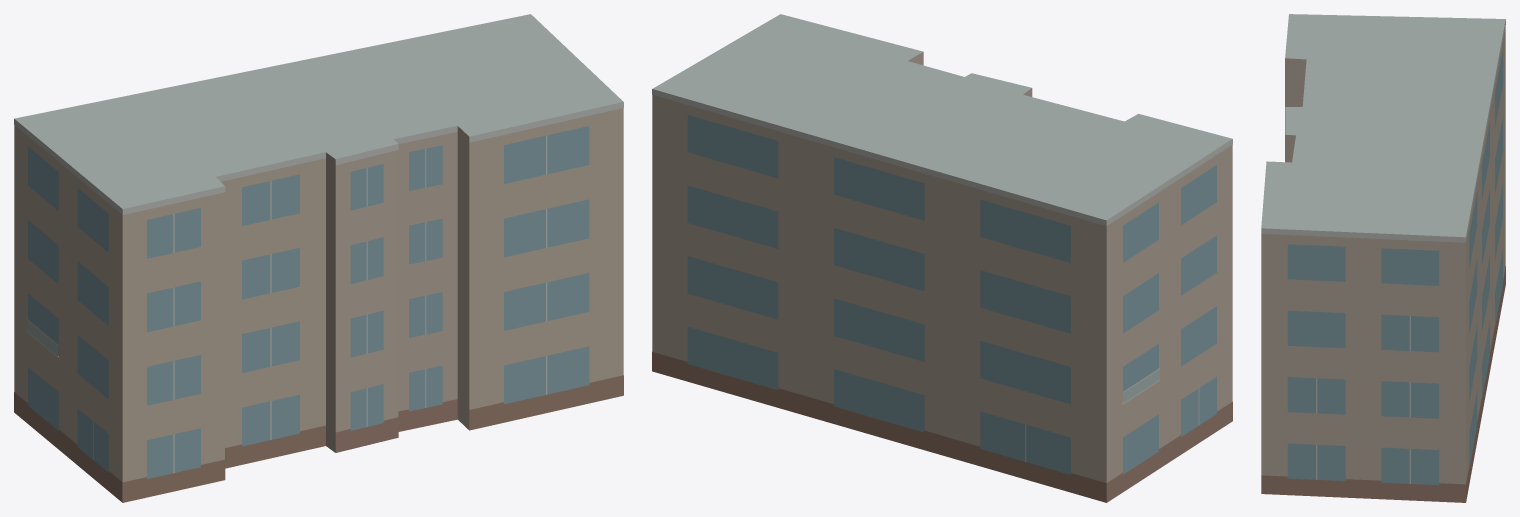
Rendered from survey-upis-32760553.glb.
3 views of the same model, side by side, from view 1: azimuth 30°, elevation 25°; view 2: azimuth 150°, elevation 25°; view 3: azimuth 270°, elevation 25° (orthographic). The views are drawn at different scales.
Parts seen in each view (by area): view 1: survey-upis-32760553.tmp; view 2: survey-upis-32760553.tmp; view 3: survey-upis-32760553.tmp.
Boxes of the visible parts, x1,y1,x2,y2 form: survey-upis-32760553.tmp: (14,14,623,502); survey-upis-32760553.tmp: (652,14,1232,502); survey-upis-32760553.tmp: (1261,14,1505,502).
Bounding box in the file's own units: 21.37 × 11.85 × 9.9.
